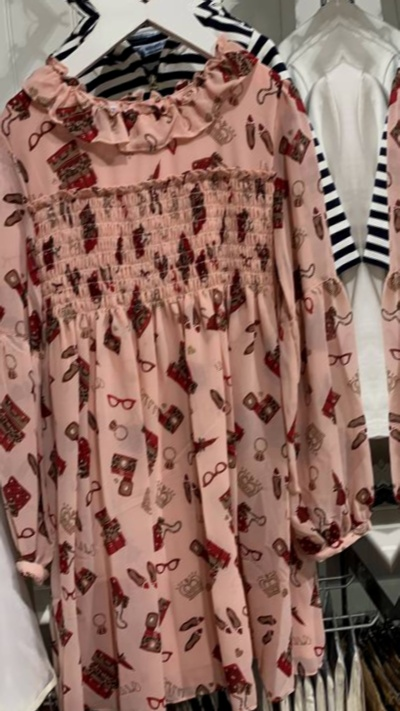Dress: (0, 29, 393, 711), (350, 0, 400, 689)
